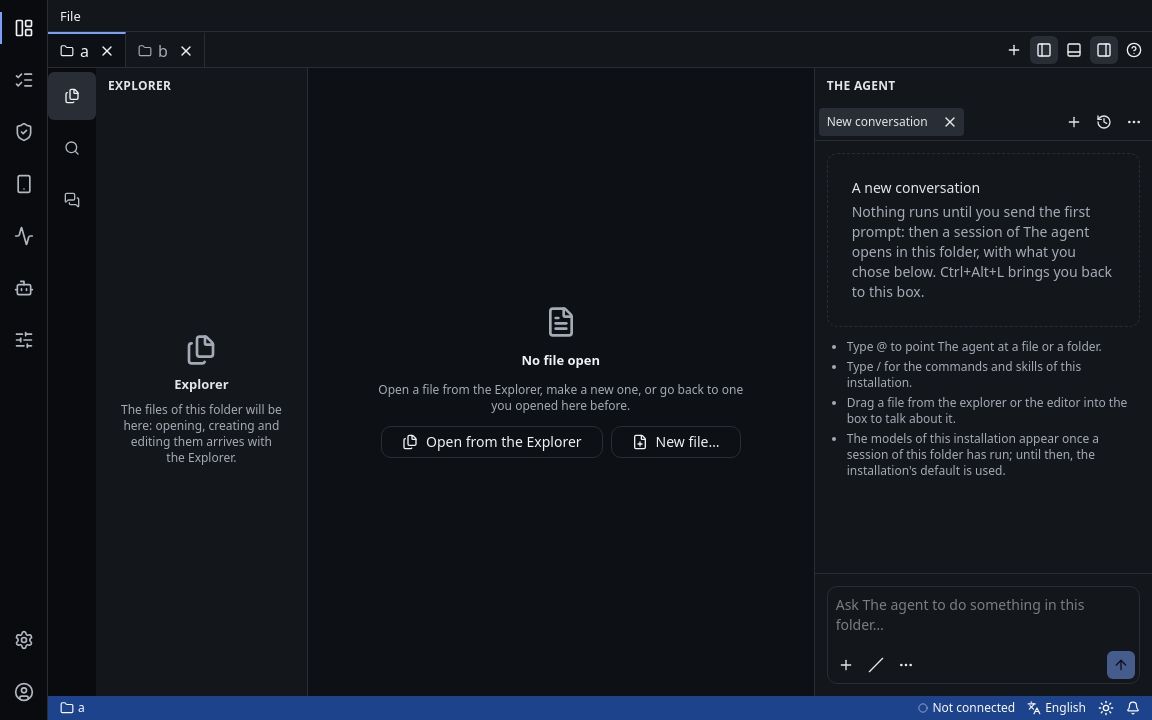
Scenario: closing folder tabs — plan 06, S-101, S-102, S-109 › keeps the tab on "keep open"
Click the button named "Close b" at {"x": 186, "y": 50}, box top-left (172, 36), bottom-right (200, 64)
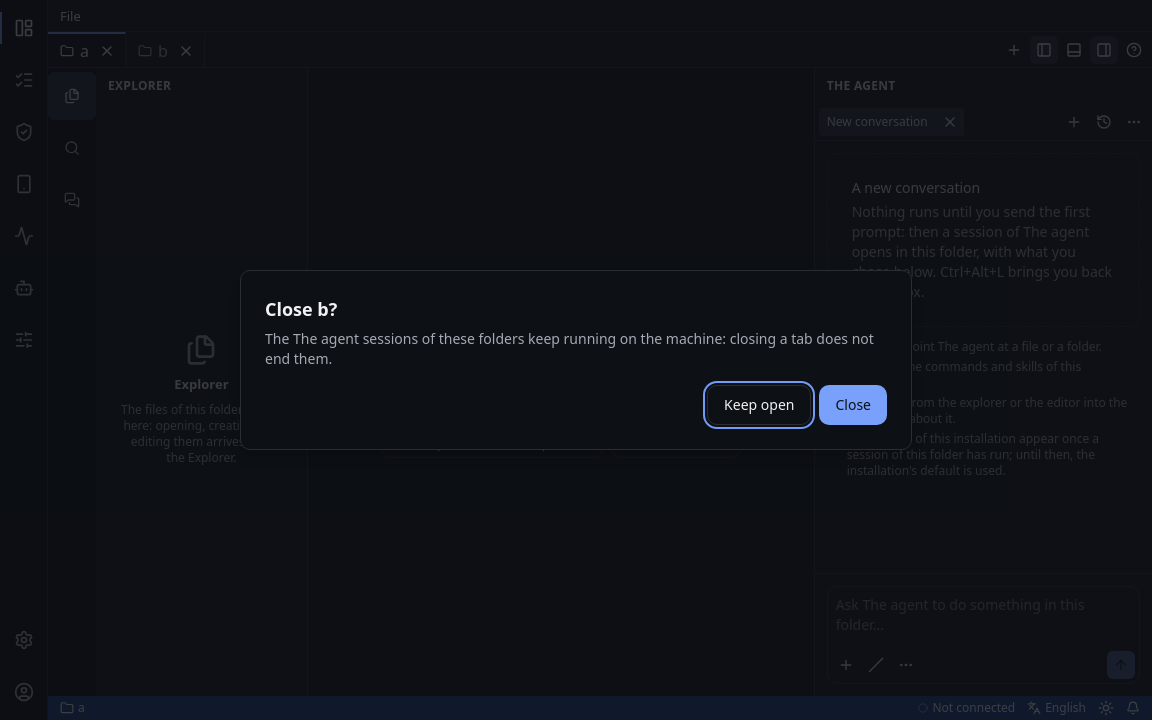
Click the button "Keep open" at {"x": 759, "y": 405}, box top-left (707, 385), bottom-right (811, 425)
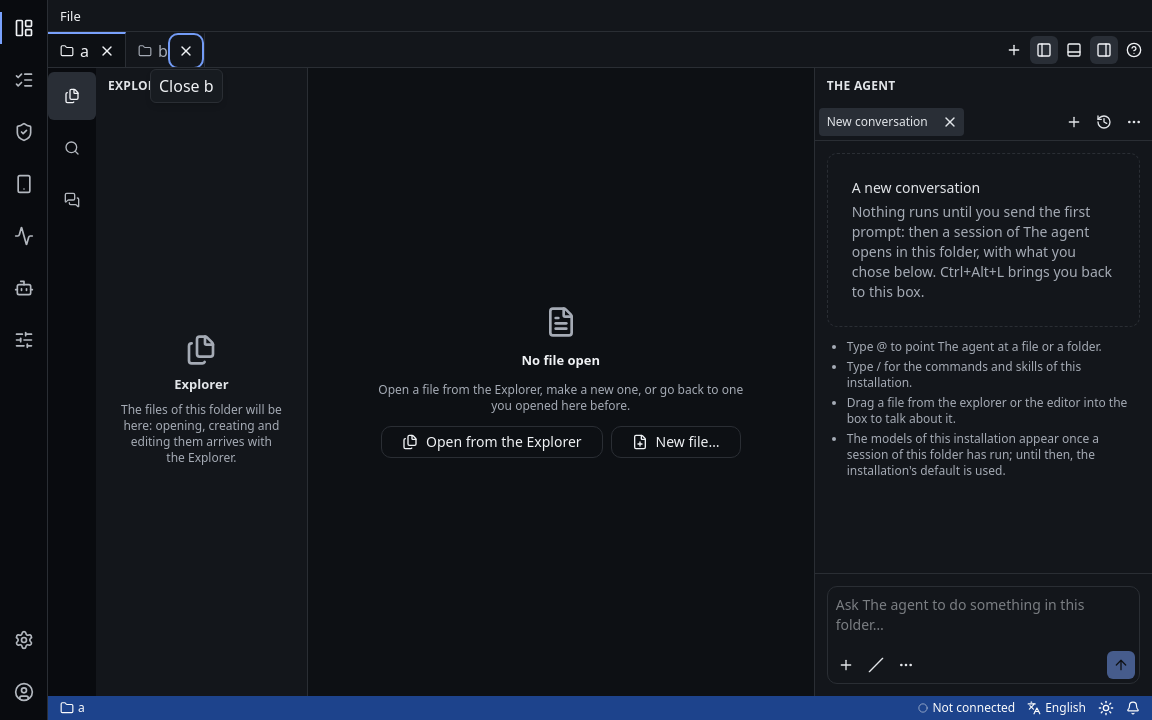
Now the dialog is gone
